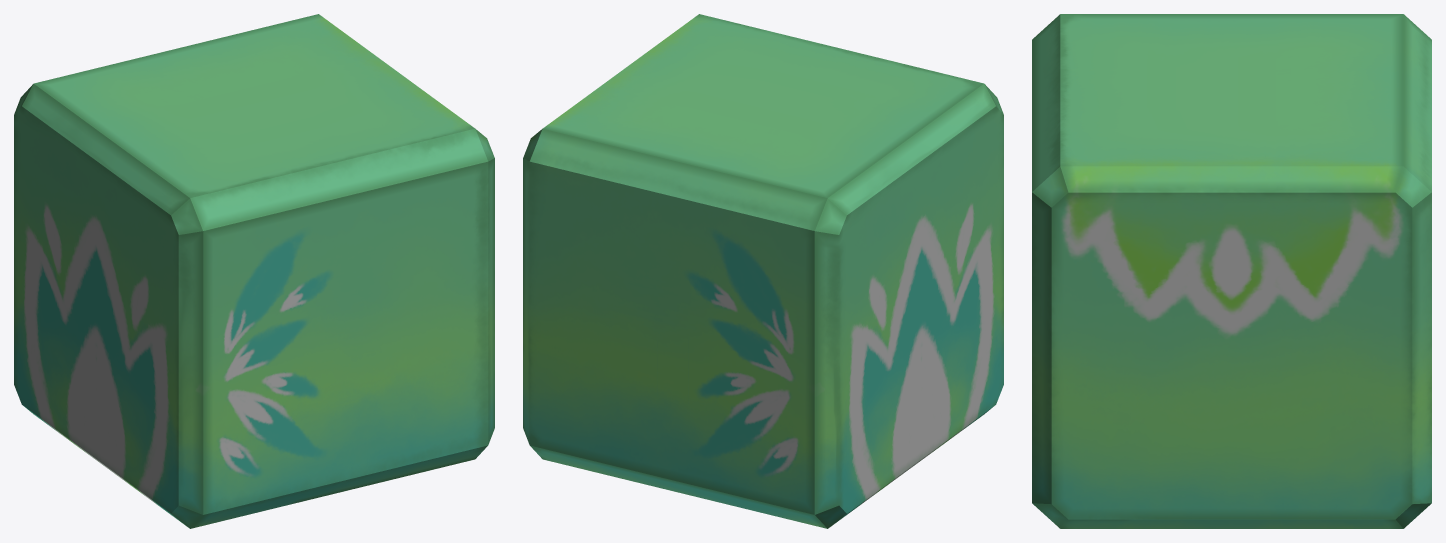
The model's file is bird_totem_body.fbx.
The picture shows the model from 3 angles, left to right: view 1: azimuth 30°, elevation 25°; view 2: azimuth 150°, elevation 25°; view 3: azimuth 270°, elevation 25°; orthographic projection. The views are drawn at different scales.
Visible parts, largest first — view 1: Cube.005; view 2: Cube.005; view 3: Cube.005.
Boxes of the visible parts, x1,y1,x2,y2 form: Cube.005: [14, 14, 494, 528]; Cube.005: [523, 14, 1003, 528]; Cube.005: [1032, 14, 1431, 528].
Bounding box in the file's own units: 100 × 100 × 100.
1 material, 1 textured.
